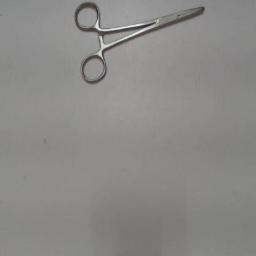Mayo Needle Holder: (70, 0, 212, 90)
